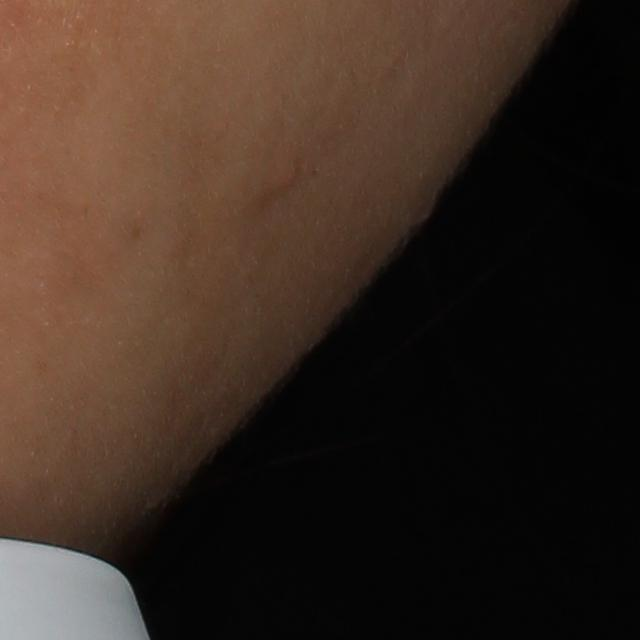papule: (263, 155, 303, 202)
